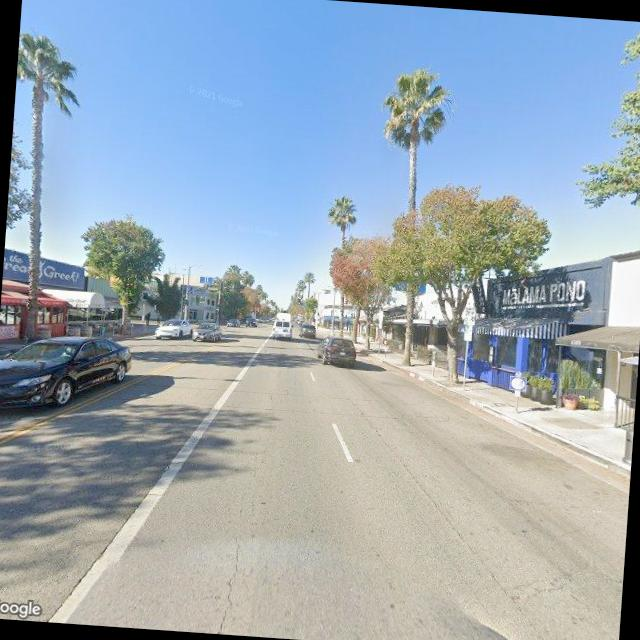pothole: (207, 533, 248, 633)
